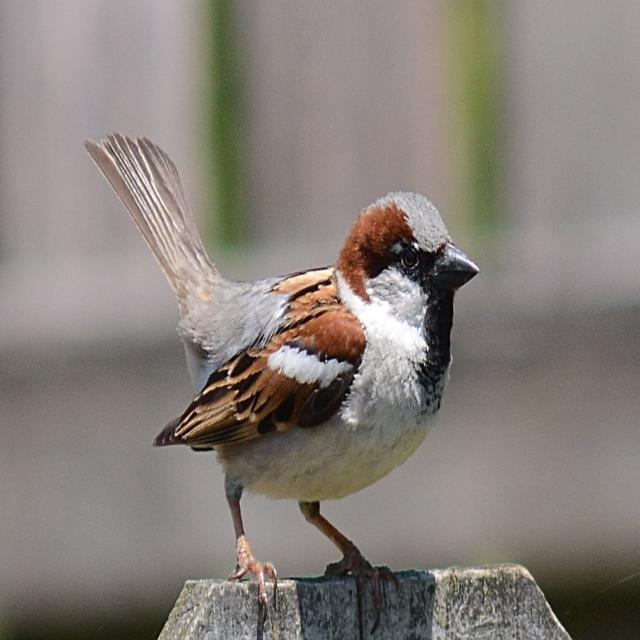Sparrow: (92, 128, 482, 581)
